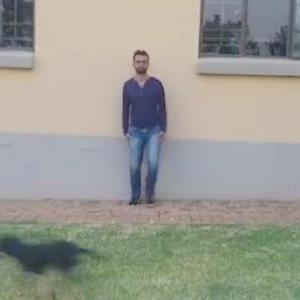follow: (122, 47, 169, 207)
